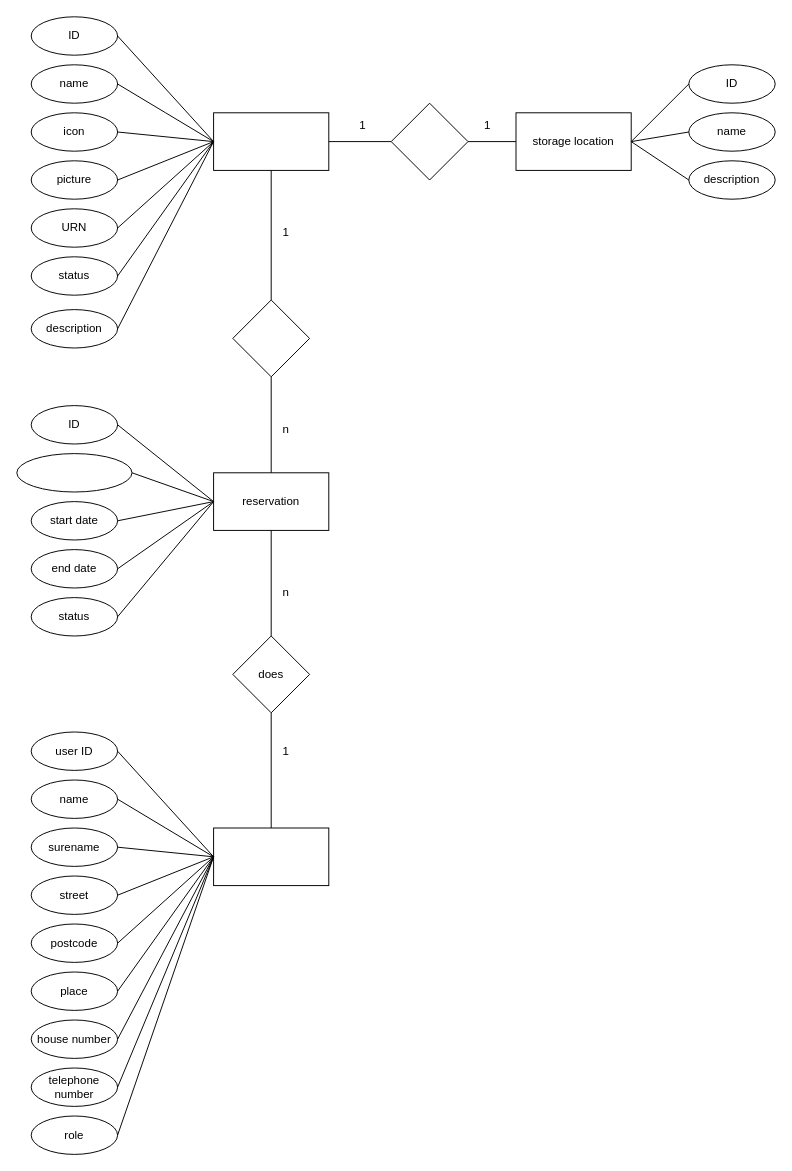
This 792x1171 diagram has some shape labels left out. The shapes that lost their labels are listed below. From the top down, each one's centre as x and y in pixels, then its label:
the point at 271,141: inventory item
the point at 429,141: has
the point at 271,338: includes
the point at 74,472: reservation number
the point at 271,856: person
